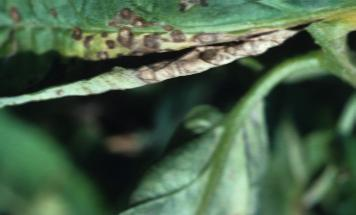Tomato Septoria leaf spot: (0, 0, 356, 113)
